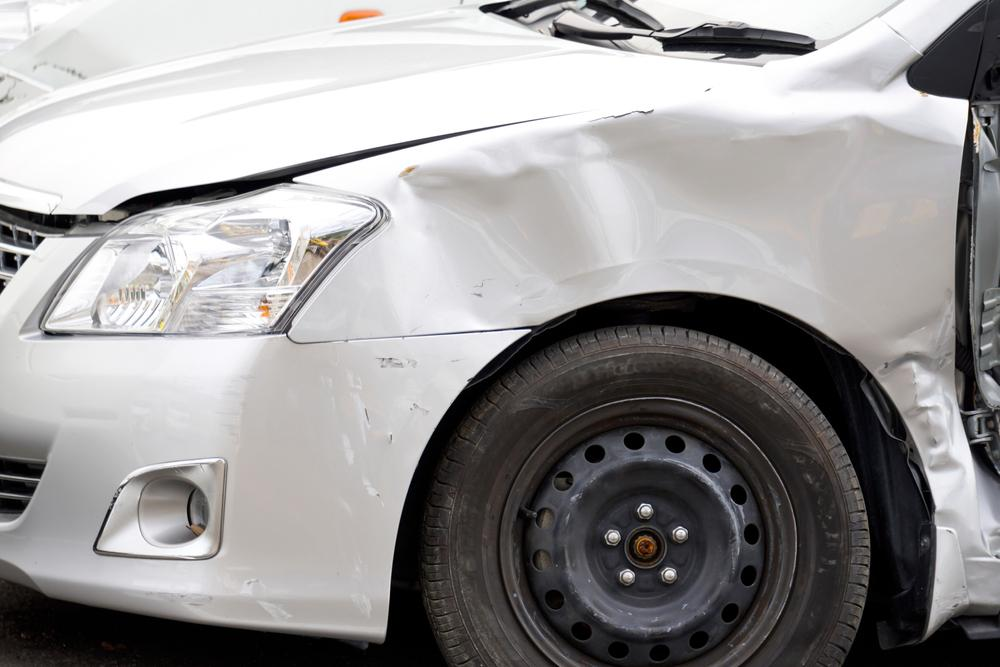dent: (335, 107, 972, 505)
scratch: (335, 350, 425, 513), (149, 570, 291, 626)
